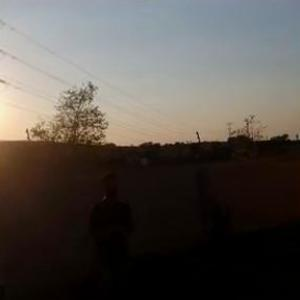follow: (85, 169, 143, 299)
